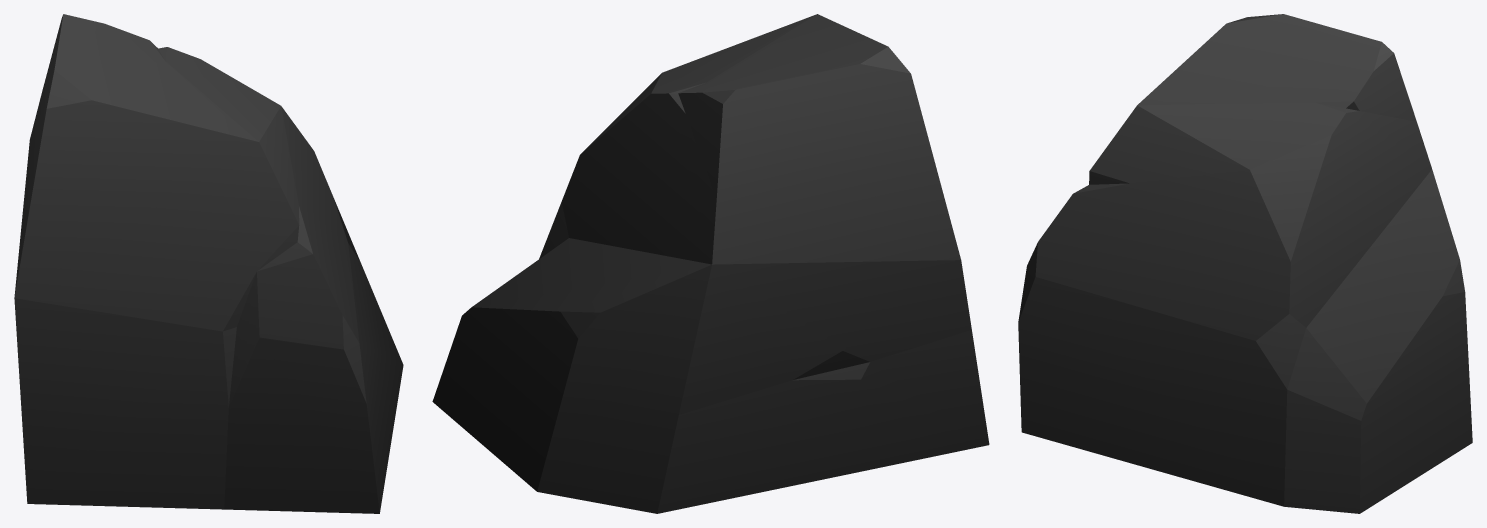
The model's file is rock1.obj.
The picture shows the model from 3 angles, left to right: view 1: azimuth 30°, elevation 25°; view 2: azimuth 150°, elevation 25°; view 3: azimuth 270°, elevation 25°; orthographic projection. The views are drawn at different scales.
Visible parts, largest first — view 1: RB1; view 2: RB1; view 3: RB1.
Boxes of the visible parts, bbox=[...] form: RB1: bbox=[14, 14, 403, 513]; RB1: bbox=[432, 14, 989, 513]; RB1: bbox=[1018, 14, 1472, 513].
Bounding box in the file's own units: 12.11 × 9.99 × 12.09.
Materials: 1 (1 with a texture image).
